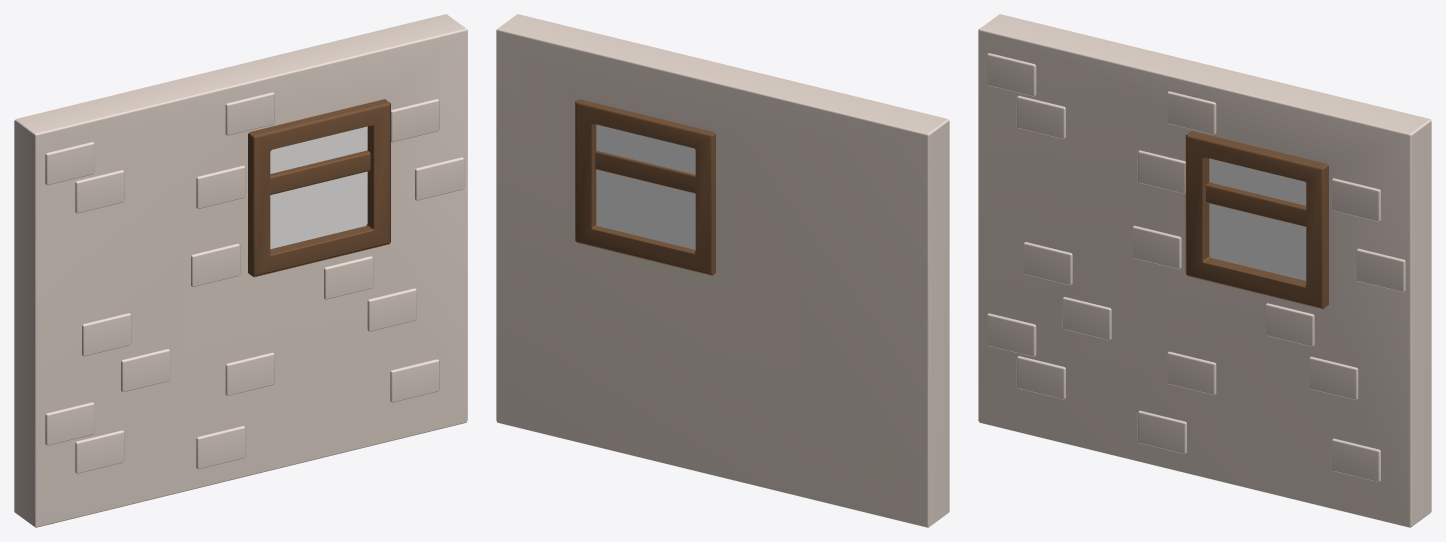
File: Wall_35.glb
3 renders of one model, left to right at view 1: azimuth 30°, elevation 25°; view 2: azimuth 150°, elevation 25°; view 3: azimuth 330°, elevation 25°, orthographic.
Visible parts, largest first — view 1: Wall_35; view 2: Wall_35; view 3: Wall_35.
Part boxes in pixels (left/top/right/bottom): Wall_35: left=14, top=14, right=467, bottom=527; Wall_35: left=496, top=14, right=949, bottom=527; Wall_35: left=978, top=14, right=1431, bottom=527.
Size of the model in its own units: 4.6 by 4 by 0.5595.
2 materials, 2 textured.
